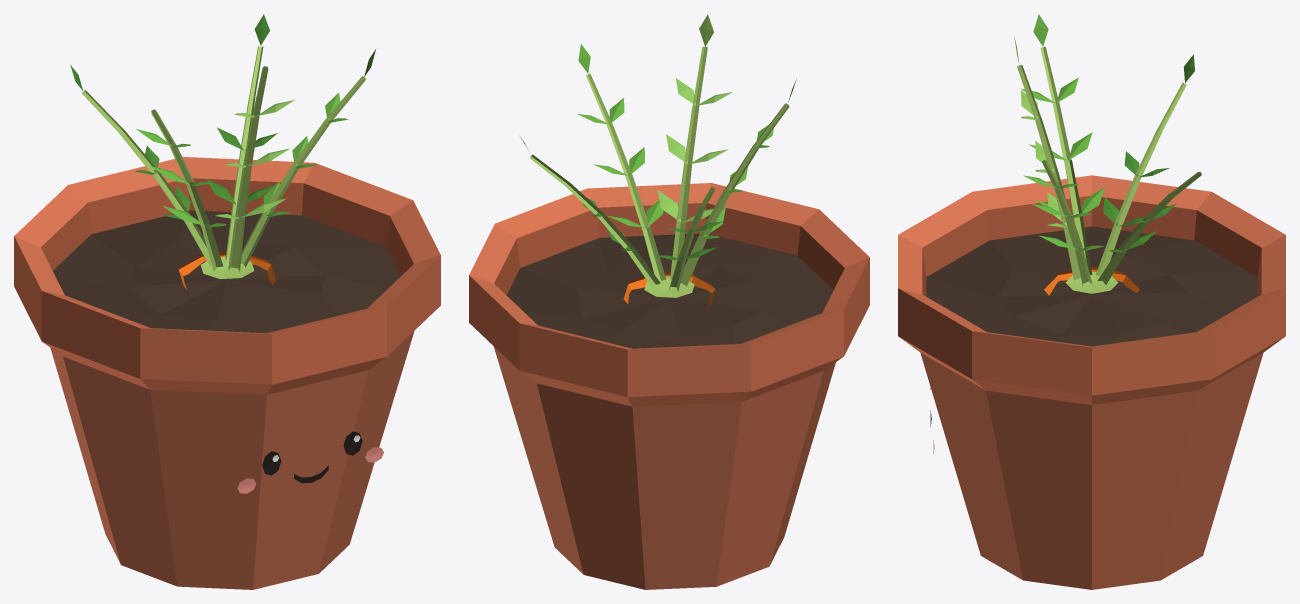
The model's file is carrot_3.glb.
The picture shows the model from 3 angles, left to right: view 1: azimuth 30°, elevation 25°; view 2: azimuth 150°, elevation 25°; view 3: azimuth 270°, elevation 25°; orthographic projection. The views are drawn at different scales.
Parts seen in each view (by area): view 1: Carrot_Stage3_Maturing; view 2: Carrot_Stage3_Maturing; view 3: Carrot_Stage3_Maturing.
Part boxes in pixels (box(x1,y1,x2,y2)): Carrot_Stage3_Maturing: box(14, 14, 440, 589); Carrot_Stage3_Maturing: box(469, 14, 869, 589); Carrot_Stage3_Maturing: box(898, 14, 1285, 589).
Bounding box in the file's own units: 1.92 × 2.63 × 1.83.
